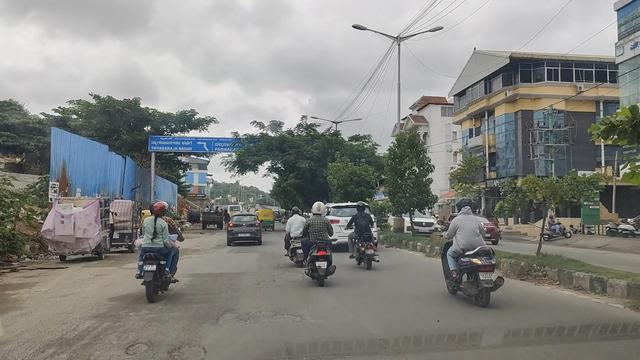LMV: (437, 193, 503, 311), (141, 199, 181, 297), (303, 199, 338, 282), (352, 204, 374, 269), (227, 210, 260, 245)
RoadDamages: (41, 308, 103, 360), (213, 308, 300, 330), (162, 342, 207, 360), (124, 338, 147, 360)
